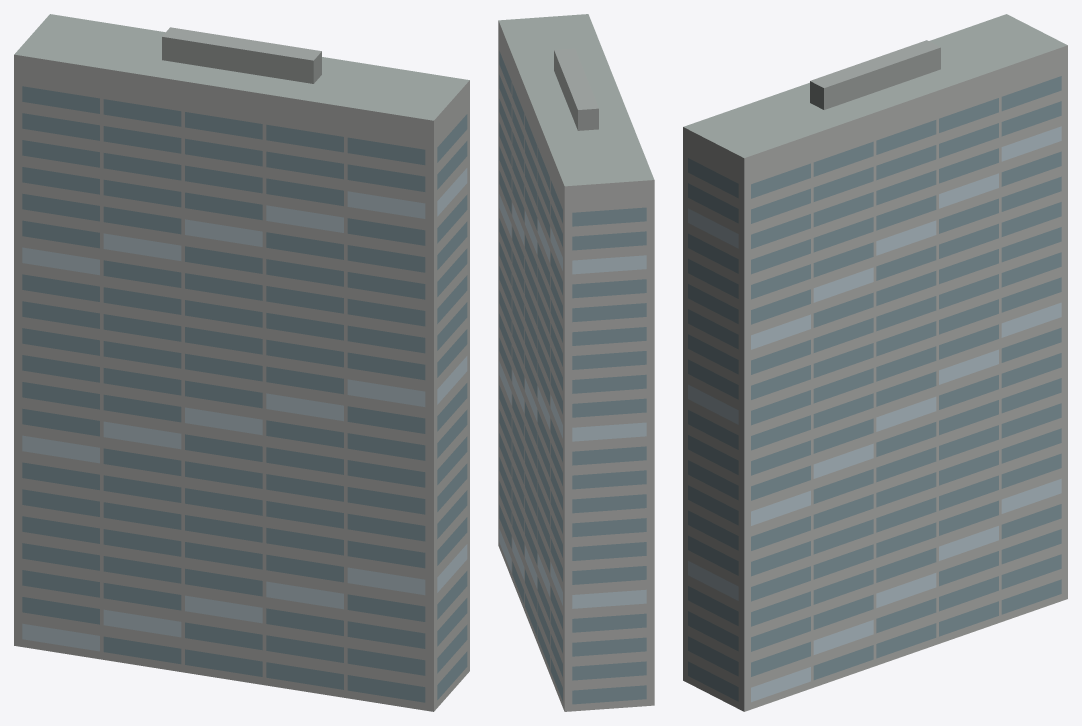
The model's file is fallback-gwanak-dream-town-122.glb.
3 views of the same model, side by side, from view 1: azimuth 30°, elevation 25°; view 2: azimuth 150°, elevation 25°; view 3: azimuth 270°, elevation 25° (orthographic). The views are drawn at different scales.
Visible parts, largest first — view 1: fallback-gwanak-dream-town-122; view 2: fallback-gwanak-dream-town-122; view 3: fallback-gwanak-dream-town-122.
Boxes of the visible parts, x1,y1,x2,y2 form: fallback-gwanak-dream-town-122: (14,14,469,711); fallback-gwanak-dream-town-122: (498,14,654,711); fallback-gwanak-dream-town-122: (683,14,1067,711).
Size of the model in its own units: 33.86 by 63 by 38.16.
